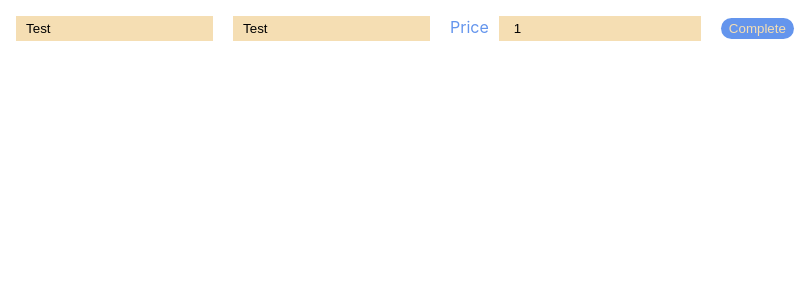
it: AddProduct tests › AddProduct update test
Click the button "Complete" at x=757, y=28, box [721, 18, 794, 38]
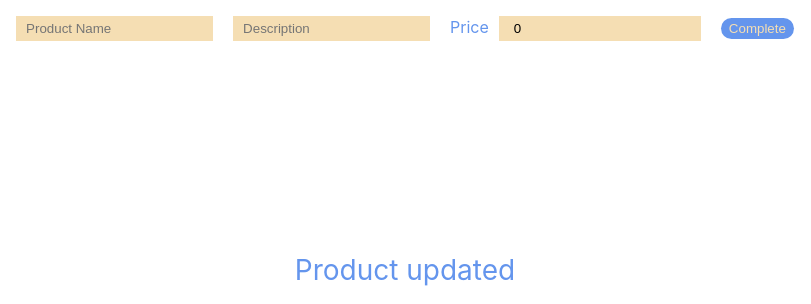
Expected: the text "Product updated" is shown, [295, 253, 515, 287]
